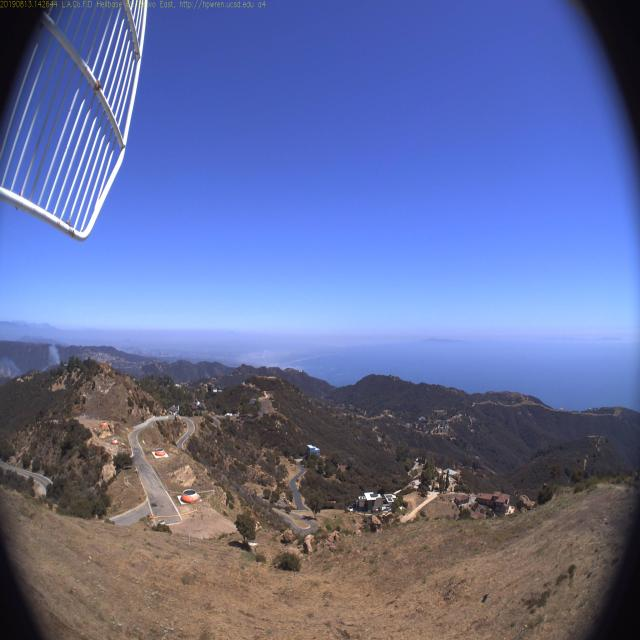smoke: (36, 326, 72, 382)
